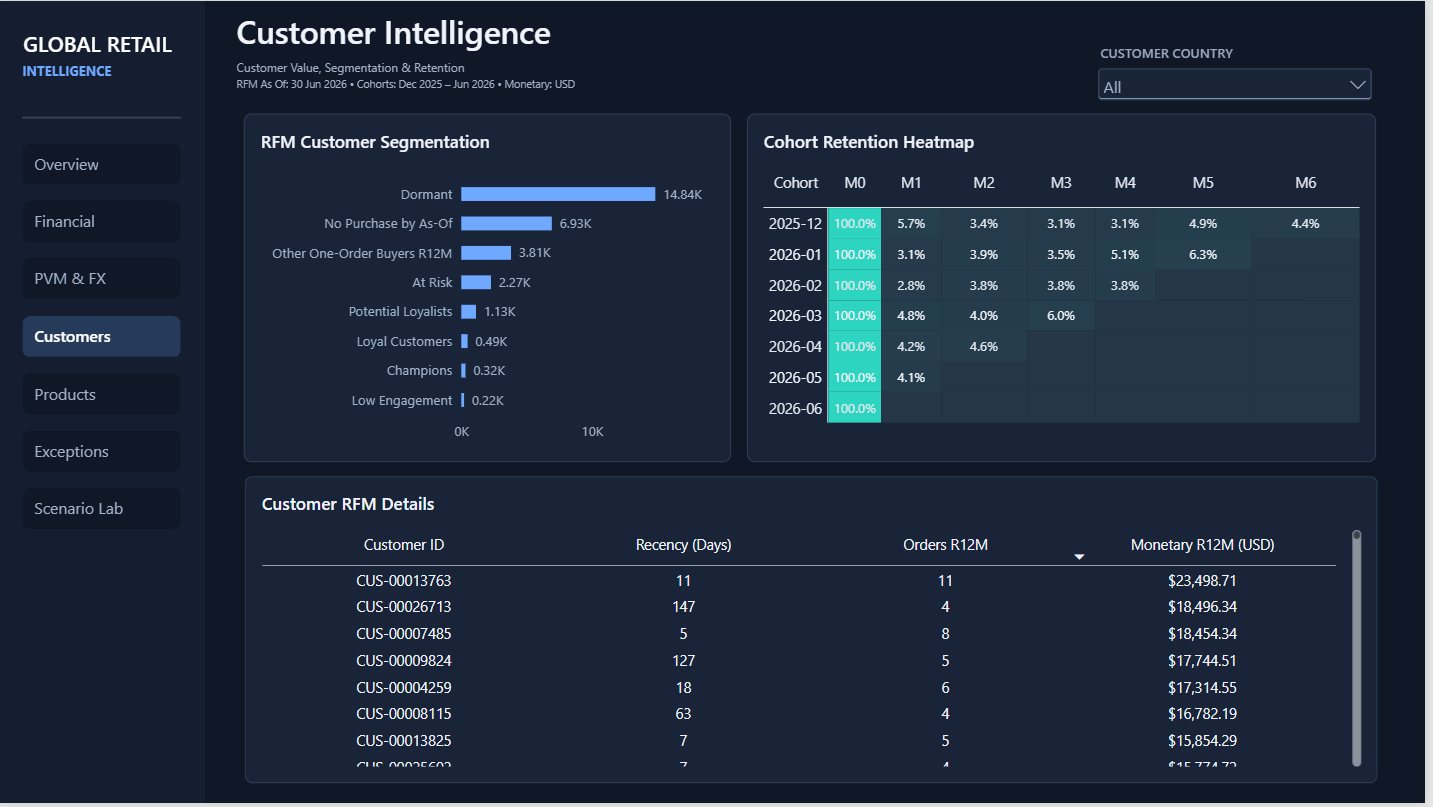

This screenshot's page, from the dashboard's own definition file:
{"tool":"powerbi","page":{"name":"Customers","canvas":[1440,810],"ordinal":3},"visuals":[{"type":"shape","title":"Sidebar Background","box":[0,0,208,810],"z":0},{"type":"textbox","title":"Sidebar Brand Title","box":[24.1,28,168,30],"z":1000},{"type":"textbox","title":"Sidebar Brand Subtitle","box":[24,60,168,22],"z":2000},{"type":"shape","title":"Line","box":[24,112,160,12],"z":3000},{"type":"pageNavigator","box":[24,144,160,392],"z":4000},{"type":"textbox","title":"Header Subtitle","box":[240,56.7,650,21.1],"z":5000},{"type":"textbox","title":"Header Page Title","box":[240,8.9,648.9,53.3],"z":6000},{"type":"clusteredBarChart","title":"RFM Customer Segmentation","fields":{"Category":["RFMSegmentAxis.Segment"],"Y":["_Measures.RFM Segment Customer Count"]},"box":[247.6,113.2,492,352],"z":7000},{"type":"pivotTable","title":"Cohort Retention Heatmap","fields":{"Columns":["CohortAgeAxis.Age Label"],"Rows":["DimDate.YearMonth"],"Values":["_Measures.Cohort Retention Rate %"]},"box":[755.6,113.2,636,352],"z":8000},{"type":"tableEx","title":"Customer RFM Details","fields":{"Values":["DimCustomer.customer_id","_Measures.RFM Recency Days","_Measures.RFM Frequency R12M","_Measures.RFM Monetary R12M USD"]},"box":[247.8,480,1144.4,310],"z":9000},{"type":"slicer","fields":{"Values":["DimCustomer.customer_country_name"]},"box":[1104.6,43.7,287.4,69],"z":10000},{"type":"textbox","title":"Header Subtitle","box":[240,72.2,650,21.1],"z":11000}]}

Visuals, with their boxes in screenshot pixels (x1, y1, x2, y2), scaled from the page's 1440x810 canvas onto the 1433x807 screenshot:
"Sidebar Background" shape: l=0, t=0, r=207, b=806
"Sidebar Brand Title" textbox: l=24, t=28, r=191, b=58
"Sidebar Brand Subtitle" textbox: l=24, t=60, r=191, b=82
"Line" shape: l=24, t=112, r=183, b=124
pageNavigator: l=24, t=143, r=183, b=534
"Header Subtitle" textbox: l=239, t=56, r=886, b=78
"Header Page Title" textbox: l=239, t=9, r=885, b=62
"RFM Customer Segmentation" clusteredBarChart: l=246, t=113, r=736, b=463
"Cohort Retention Heatmap" pivotTable: l=752, t=113, r=1385, b=463
"Customer RFM Details" tableEx: l=247, t=478, r=1385, b=787
slicer - DimCustomer.customer_country_name: l=1099, t=44, r=1385, b=112
"Header Subtitle" textbox: l=239, t=72, r=886, b=93
